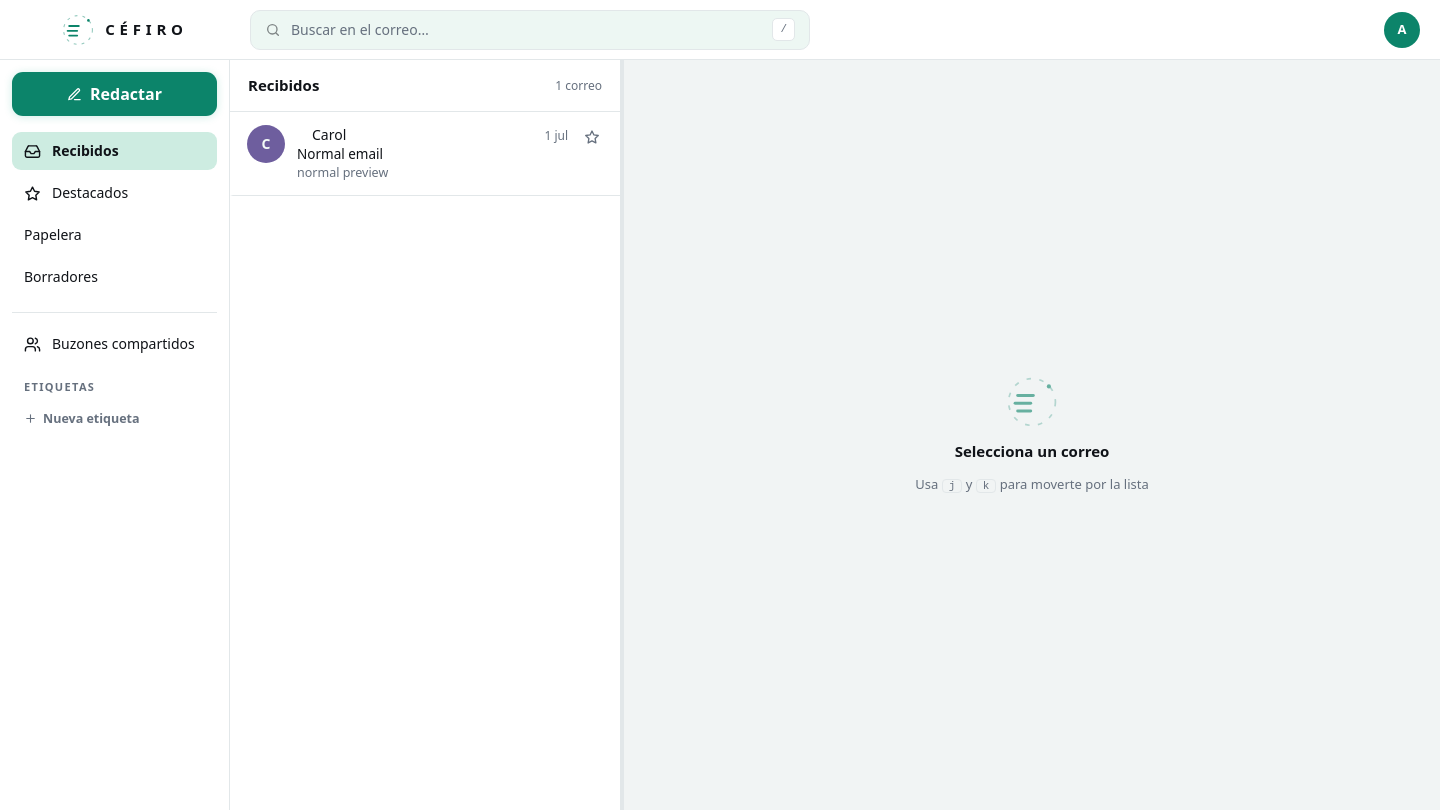
it: draft-click routing › clicking a normal (non-draft) message still opens the read-only reader, unchanged
Click the option "Normal email": (266, 144) top-left (247, 125), bottom-right (568, 182)
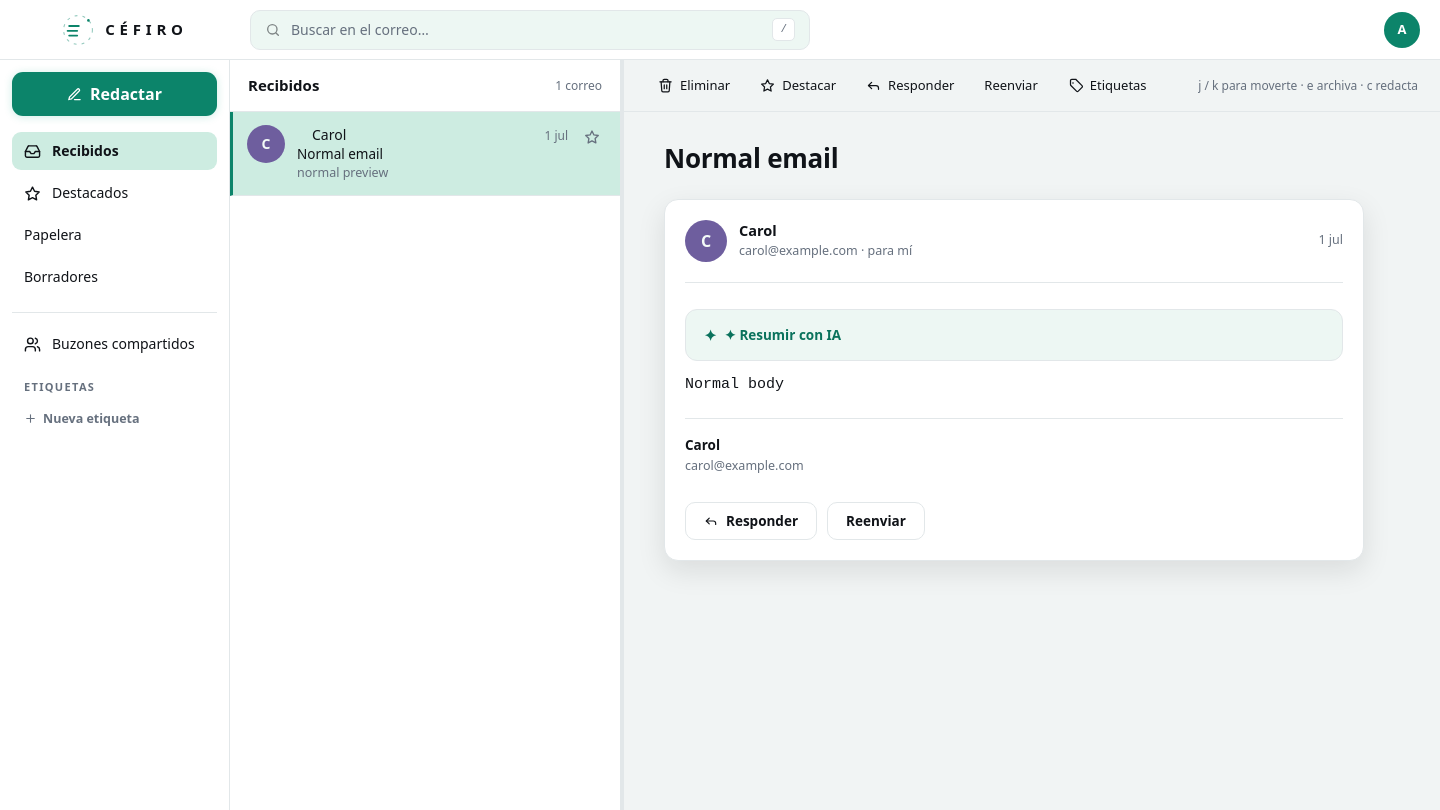
expect the element with test id "thread-actions-bar" is shown: met, box top-left (624, 60), bottom-right (1439, 112)
